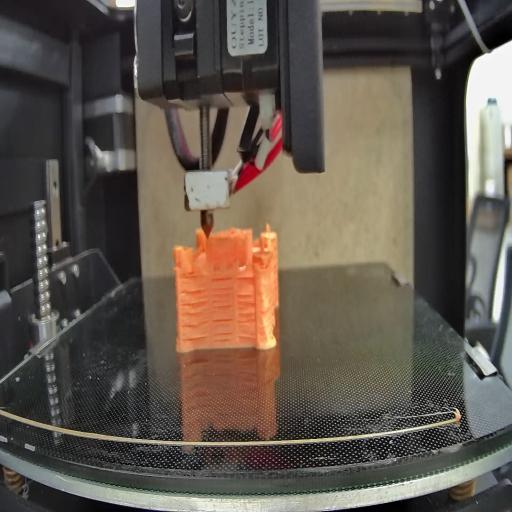cracks: (210, 273, 234, 345), (181, 286, 209, 342), (238, 290, 256, 343), (238, 272, 256, 282)
